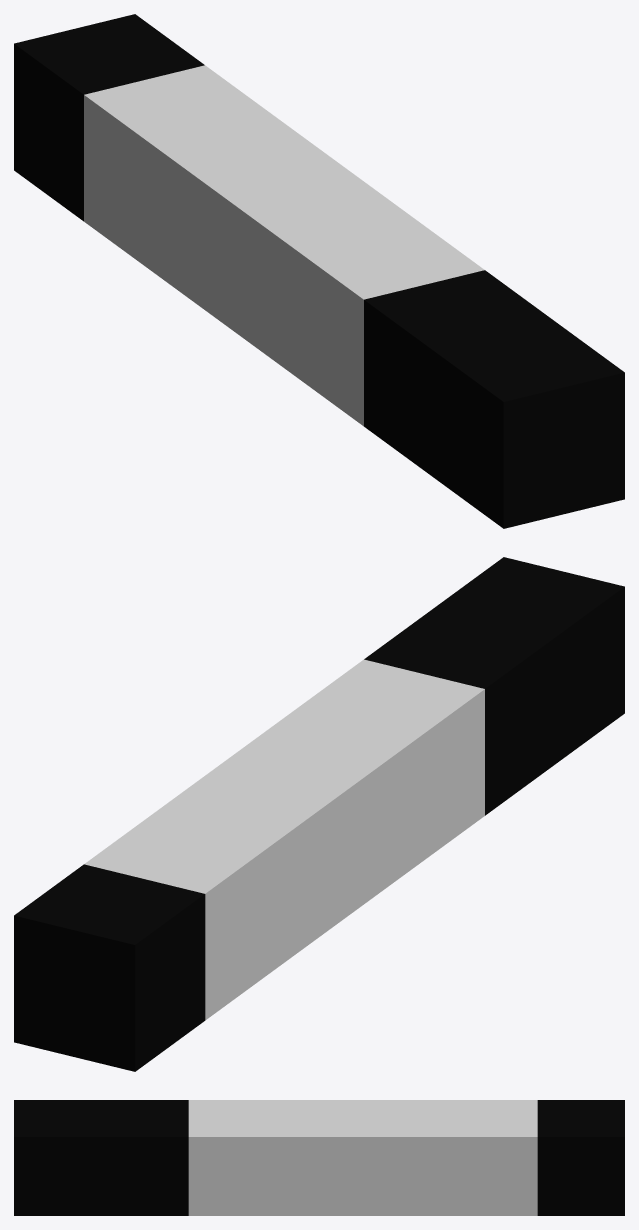
File: pen_black_01.glb
3 renders of one model, top to bottom at view 1: azimuth 30°, elevation 25°; view 2: azimuth 150°, elevation 25°; view 3: azimuth 270°, elevation 25°, orthographic. The views are drawn at different scales.
Visible parts, largest first — view 1: Untitled; view 2: Untitled; view 3: Untitled.
Part boxes in pixels (box(x1,y1,x2,y2)): Untitled: box(14, 14, 624, 528); Untitled: box(14, 557, 624, 1071); Untitled: box(14, 1100, 624, 1215).
Bounding box in the file's own units: 0.03 × 0.03 × 0.21.
1 material, 1 textured.
